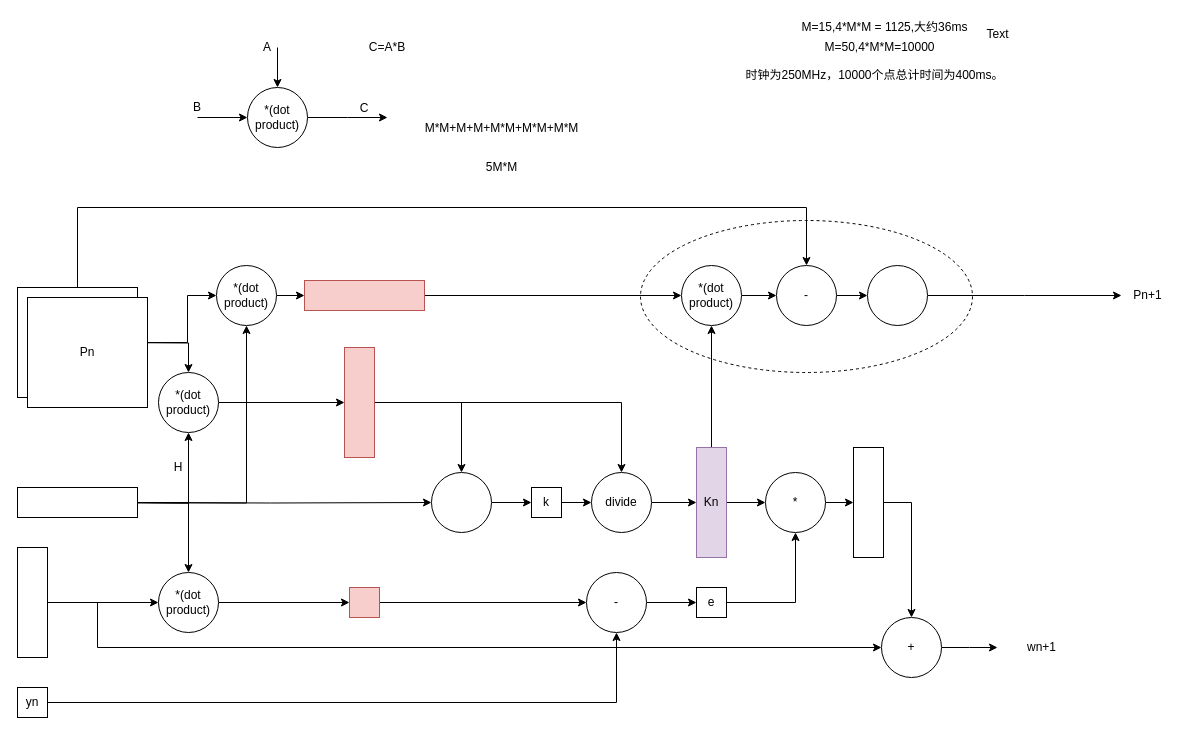
Some shapes in this 1185 by 735 pixel diagram are drawn without their labels. Each missing label, with the centre of its shape:
/lambda: point (897, 295)
A*B+lambda: point (461, 502)
eKn: point (868, 502)
PuH: point (359, 402)
un: point (77, 502)
uP: point (364, 295)
wn: point (32, 602)
yn_hat: point (364, 602)
